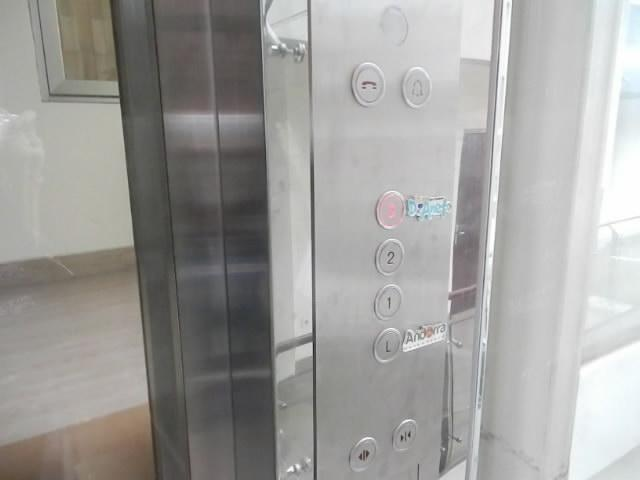1: (372, 282, 405, 322)
2: (373, 237, 407, 277)
L: (371, 326, 403, 365)
alarm: (398, 64, 435, 112)
blur: (376, 4, 411, 47), (374, 189, 407, 232)
call: (348, 59, 388, 111)
close: (390, 416, 419, 453)
open: (346, 435, 379, 473)
